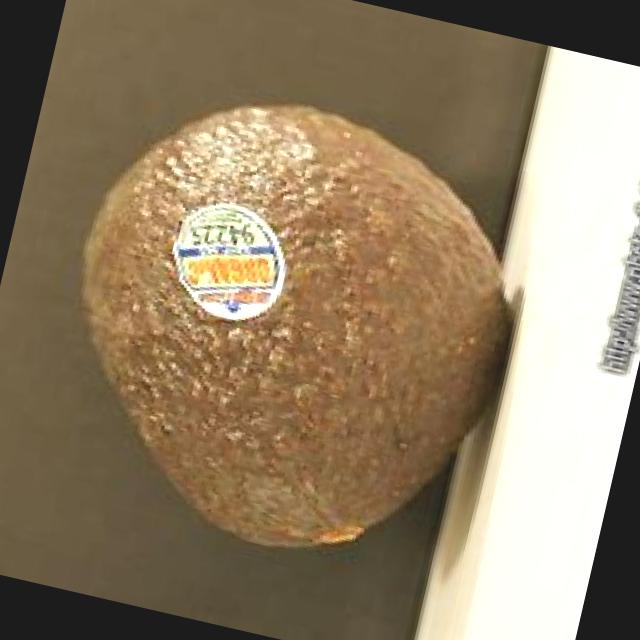avocado: (25, 54, 558, 590)
